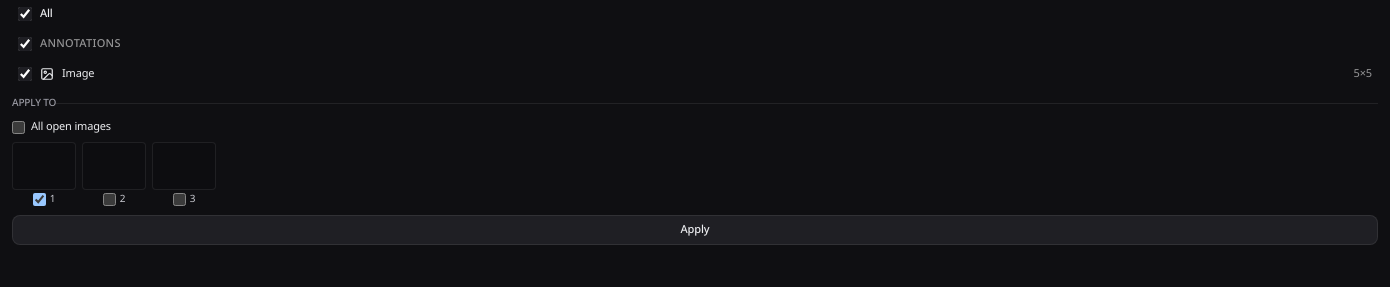
Test: ApplyTemplatePopover › 10 MB warning with 3 targets x 4 MB image
Check: the checkbox labelled "2" is enabled, box [103,192,116,206]
Check: the text "will be added" is not shown
Click the checkbox labelled "All open images".
click(18, 127)  # box [12,121,25,134]
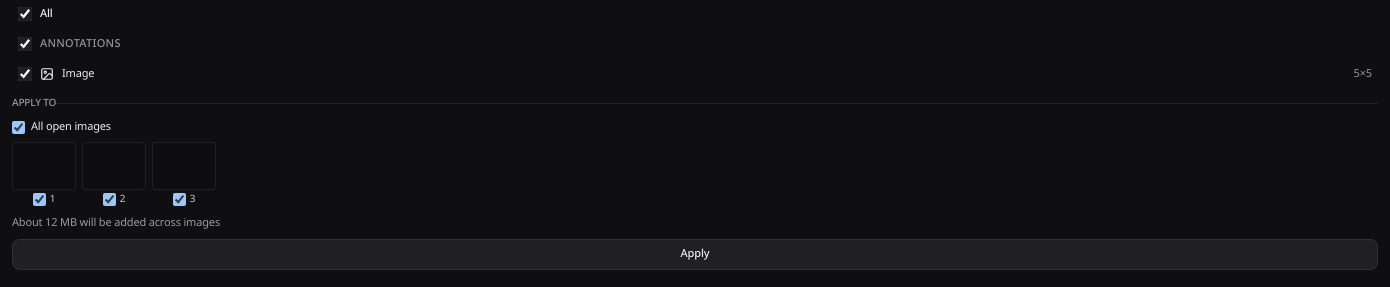
Check: the text "About 12 MB will be added across images" is shown, box [12,214,220,230]
